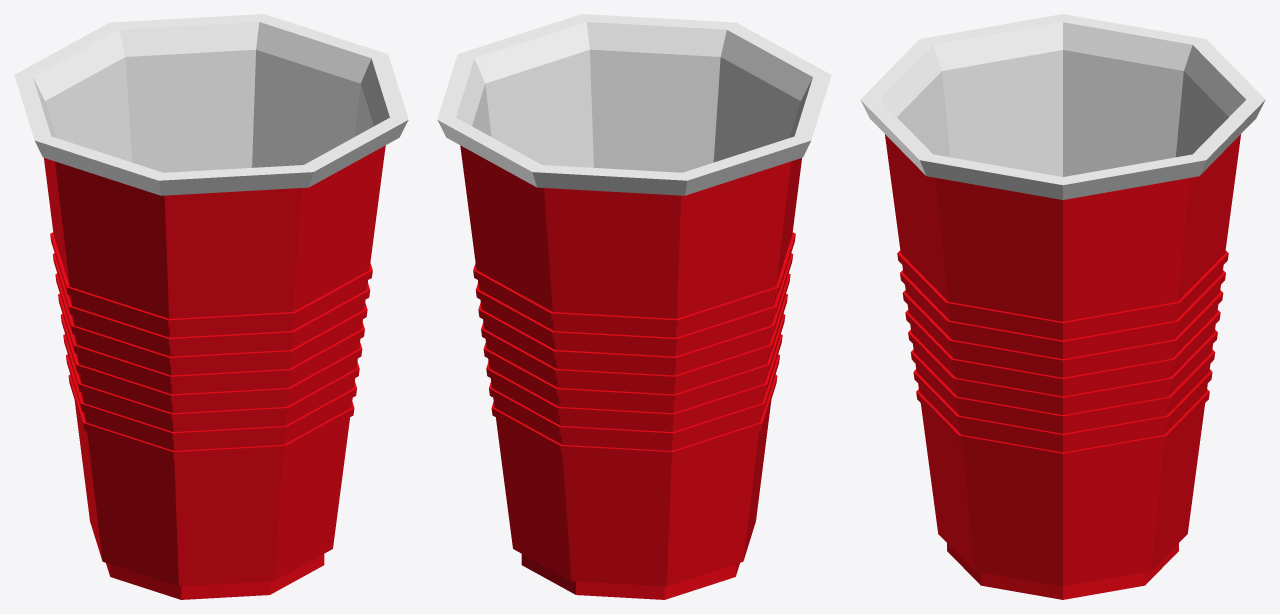
Rendered from Pong_Cup.fbx.
3 views of the same model, side by side, from view 1: azimuth 30°, elevation 25°; view 2: azimuth 150°, elevation 25°; view 3: azimuth 270°, elevation 25° (orthographic).
Visible parts, largest first — view 1: Pong_Cup; view 2: Pong_Cup; view 3: Pong_Cup.
Boxes of the visible parts, left/top/right/bottom form: Pong_Cup: left=14, top=14, right=408, bottom=599; Pong_Cup: left=437, top=14, right=831, bottom=599; Pong_Cup: left=860, top=14, right=1265, bottom=599.
Size of the model in its own units: 129 by 158 by 129.
